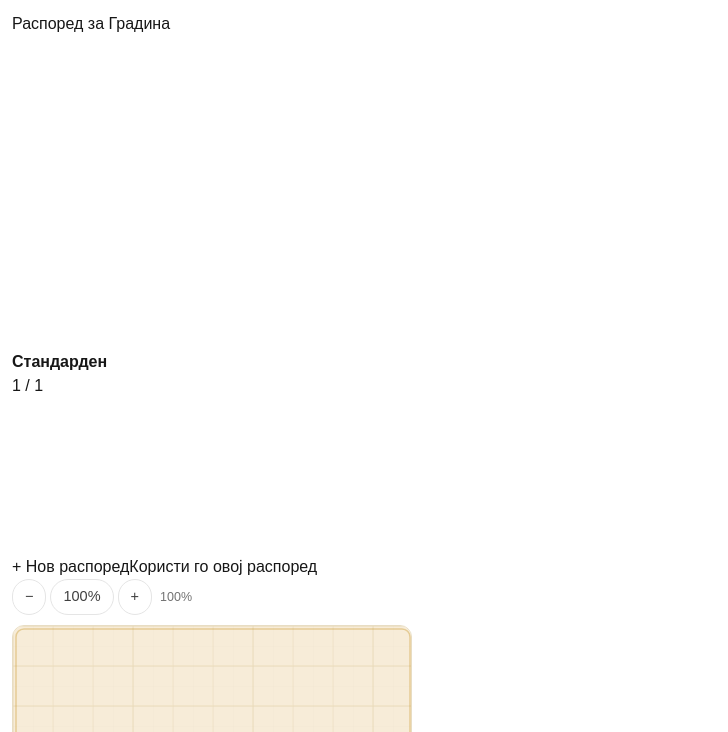
Test: EventRoomLayoutModal › can start a new layout from the preview and go back to it
Click the button "+ Нов распоред": (71, 567) 12,555 -> 129,579
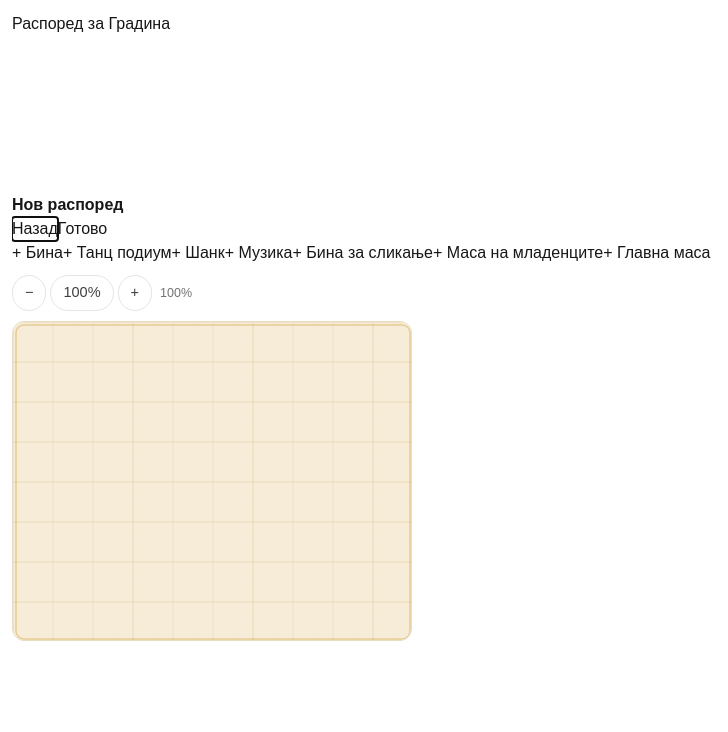
Expected: the text "Нов распоред" is shown, 12,196 -> 124,213
Click the button "Назад": (35, 229) 12,217 -> 58,241
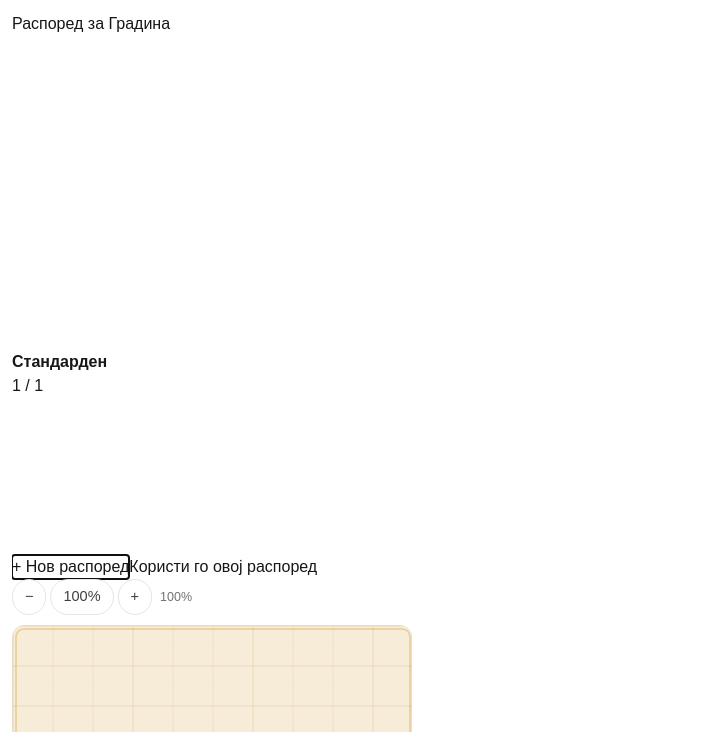
Expected: the text "Стандарден" is shown, 12,353 -> 107,370
